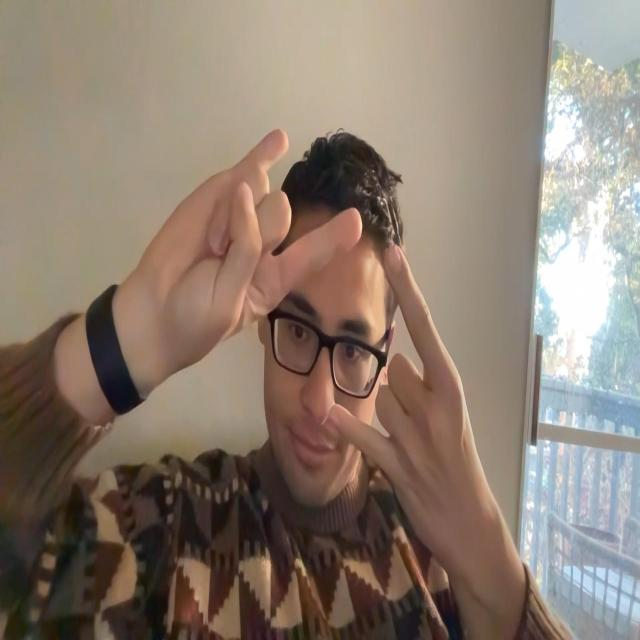face: (262, 248, 385, 510)
